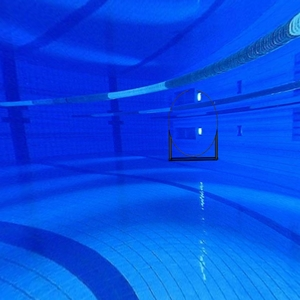circle: (166, 88, 222, 163)
